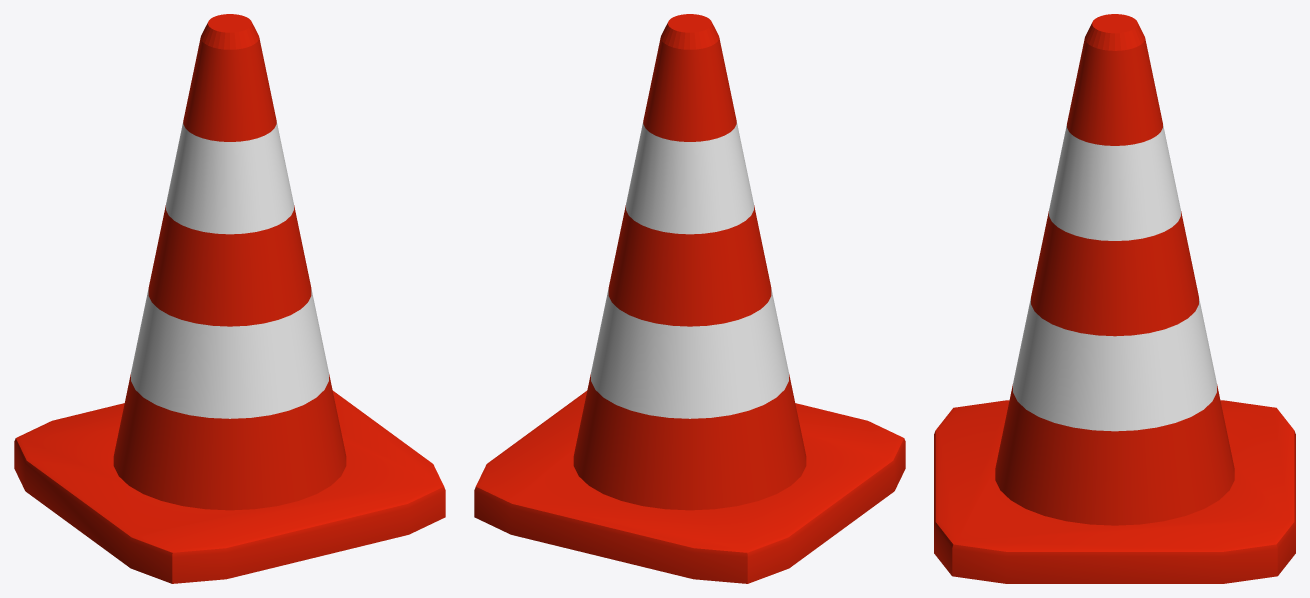
Rendered from Traffic_Cone.fbx.
3 views of the same model, side by side, from view 1: azimuth 30°, elevation 25°; view 2: azimuth 150°, elevation 25°; view 3: azimuth 270°, elevation 25° (orthographic). The views are drawn at different scales.
Visible parts, largest first — view 1: Cylinder002; view 2: Cylinder002; view 3: Cylinder002.
Boxes of the visible parts, x1=… form: Cylinder002: x1=14, y1=14, x2=445, y2=583; Cylinder002: x1=474, y1=14, x2=905, y2=583; Cylinder002: x1=934, y1=14, x2=1295, y2=583.
Size of the model in its own units: 15 by 22.13 by 15.
